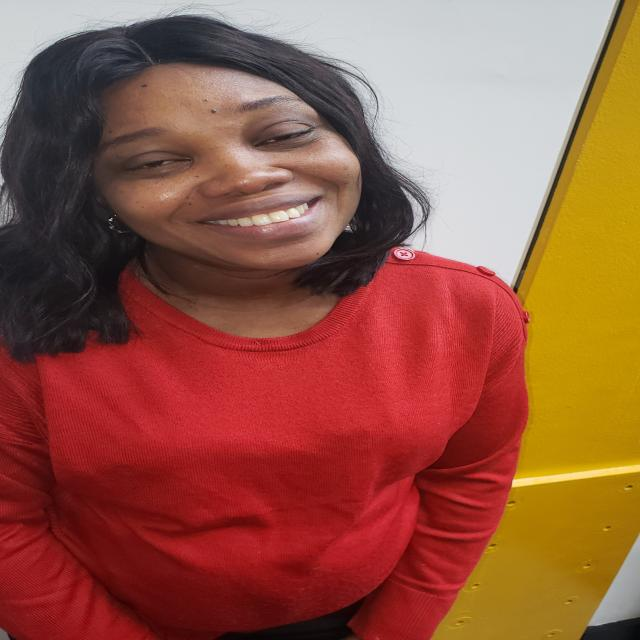happy: (59, 61, 381, 276)
